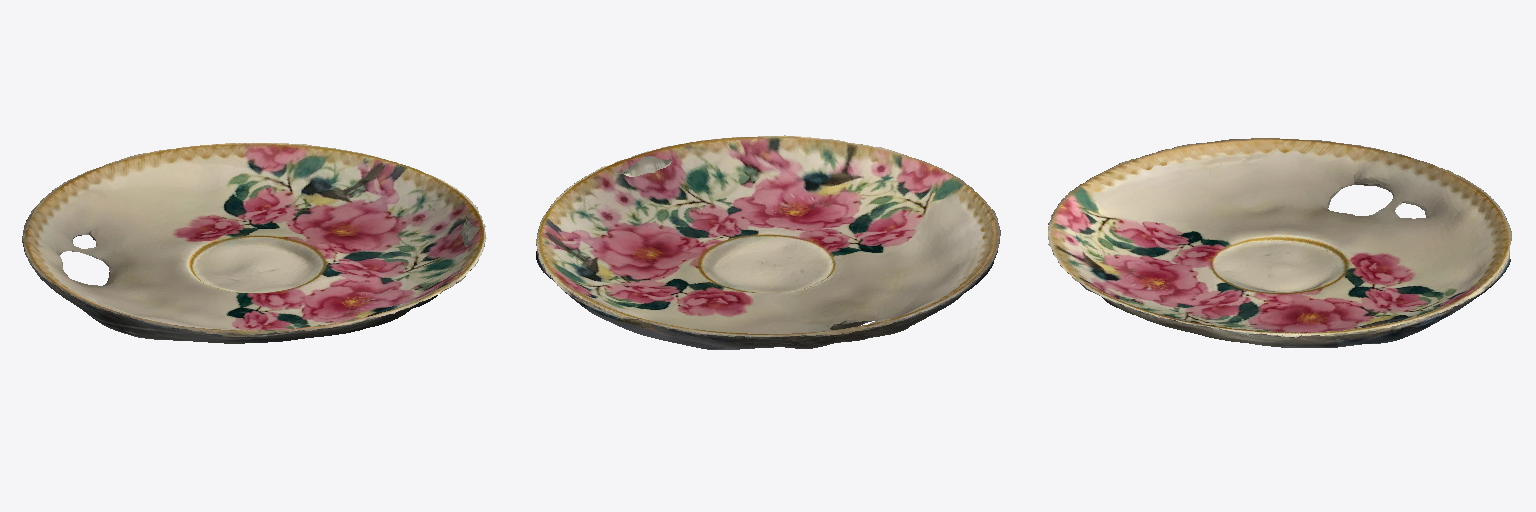
3 views of the same model, side by side, from view 1: azimuth 30°, elevation 25°; view 2: azimuth 150°, elevation 25°; view 3: azimuth 270°, elevation 25° (orthographic).
Size of the model in its own units: 0.1543 by 0.017 by 0.1543.
1 materials, 1 textured.